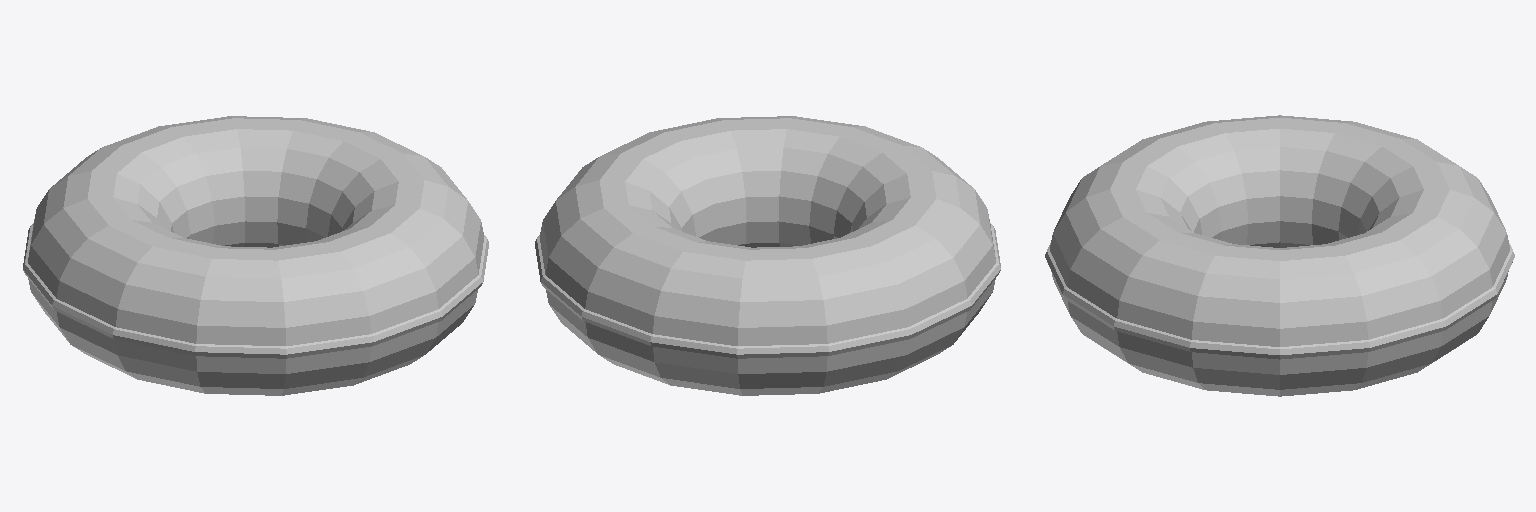
File: bouee.obj
The picture shows the model from 3 angles: view 1: azimuth 30°, elevation 25°; view 2: azimuth 150°, elevation 25°; view 3: azimuth 270°, elevation 25°; orthographic projection.
Visible parts, largest first — view 1: Connect; view 2: Connect; view 3: Connect.
Part boxes in pixels (x1,y1,x2,y2): Connect: (23, 116, 488, 395); Connect: (535, 116, 1000, 395); Connect: (1045, 115, 1514, 396).
Bounding box in the file's own units: 600 × 187 × 600.